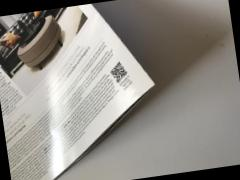paper: (0, 0, 197, 180)
